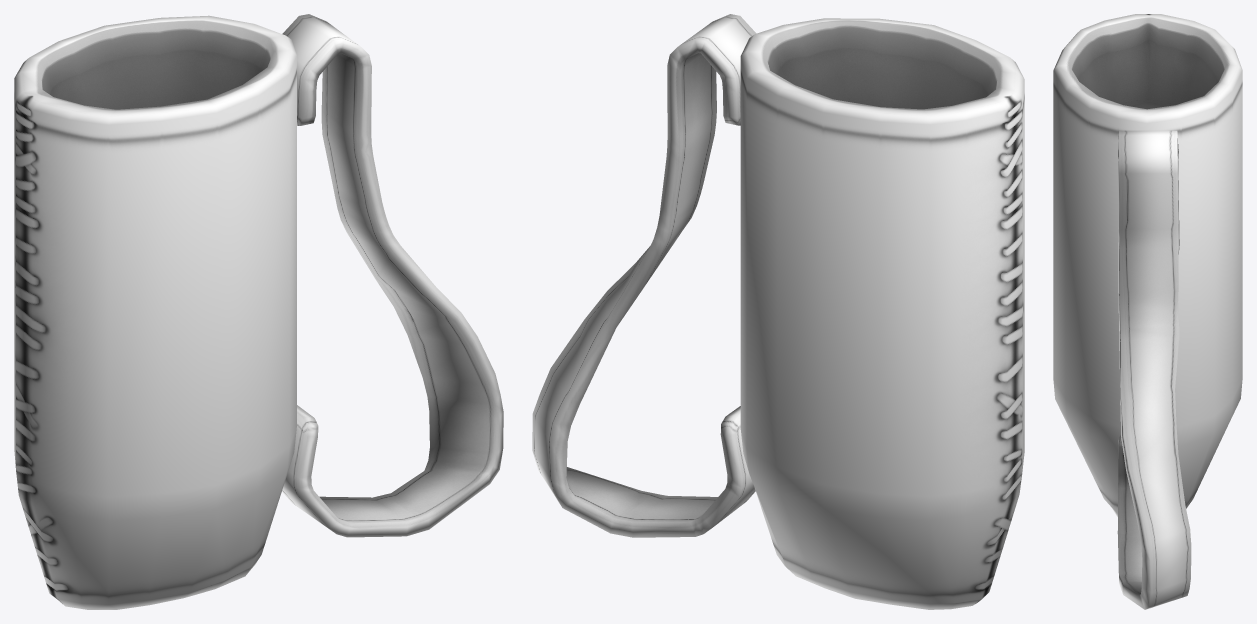
Rendered from 141_a_quiver.fbx.
3 views of the same model, side by side, from view 1: azimuth 30°, elevation 25°; view 2: azimuth 150°, elevation 25°; view 3: azimuth 270°, elevation 25° (orthographic). The views are drawn at different scales.
Visible parts, largest first — view 1: 141_a_quiver; view 2: 141_a_quiver; view 3: 141_a_quiver.
Part boxes in pixels (x1,y1,x2,y2): 141_a_quiver: (14, 14, 503, 609); 141_a_quiver: (532, 14, 1024, 609); 141_a_quiver: (1053, 14, 1242, 609).
Bounding box in the file's own units: 34.25 × 35.16 × 14.11.
